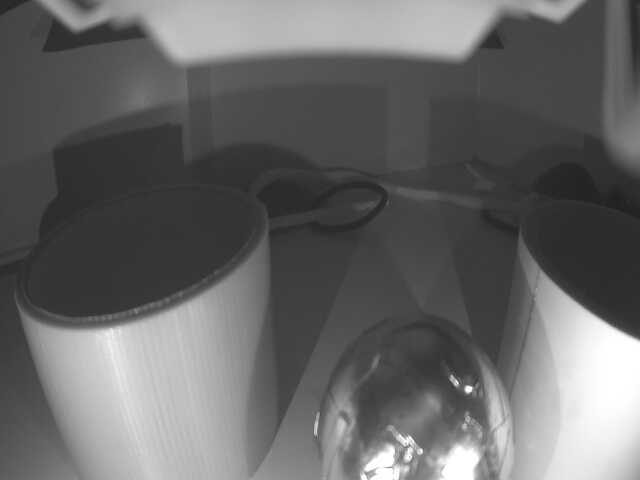Live: (322, 311, 516, 480)
